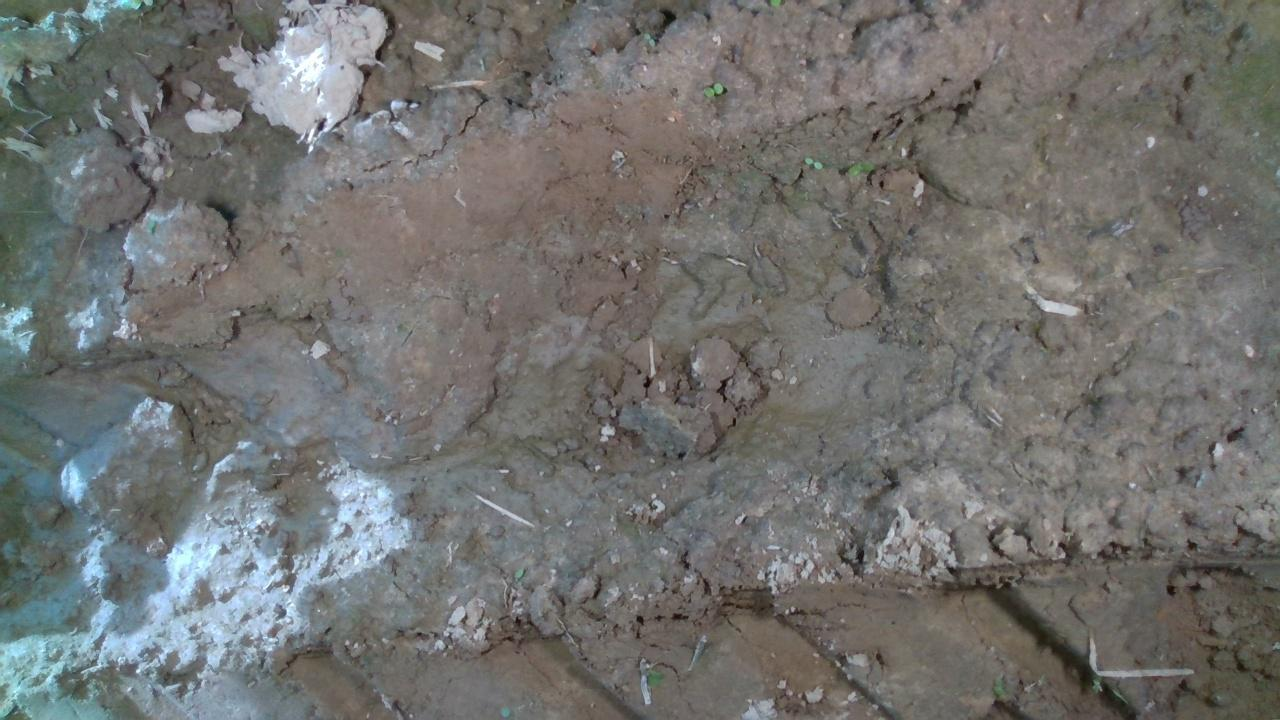weed: (700, 80, 724, 96), (803, 156, 823, 169), (641, 30, 656, 46)
